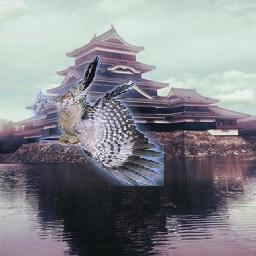Woodpecker: (32, 56, 165, 187)
